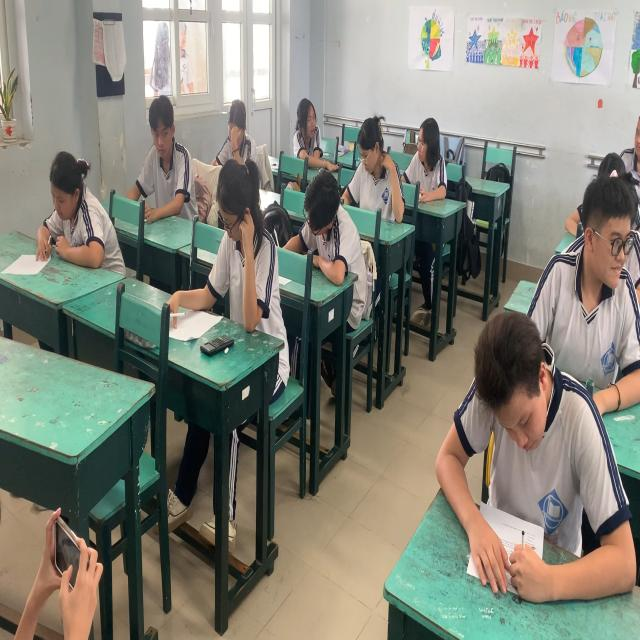cheating: (541, 172, 640, 408), (401, 114, 456, 200), (288, 94, 339, 177)
not_cheating: (434, 318, 620, 612), (207, 166, 286, 325), (123, 91, 203, 221), (34, 156, 121, 274), (347, 115, 402, 228), (302, 166, 360, 263), (217, 97, 261, 163)
